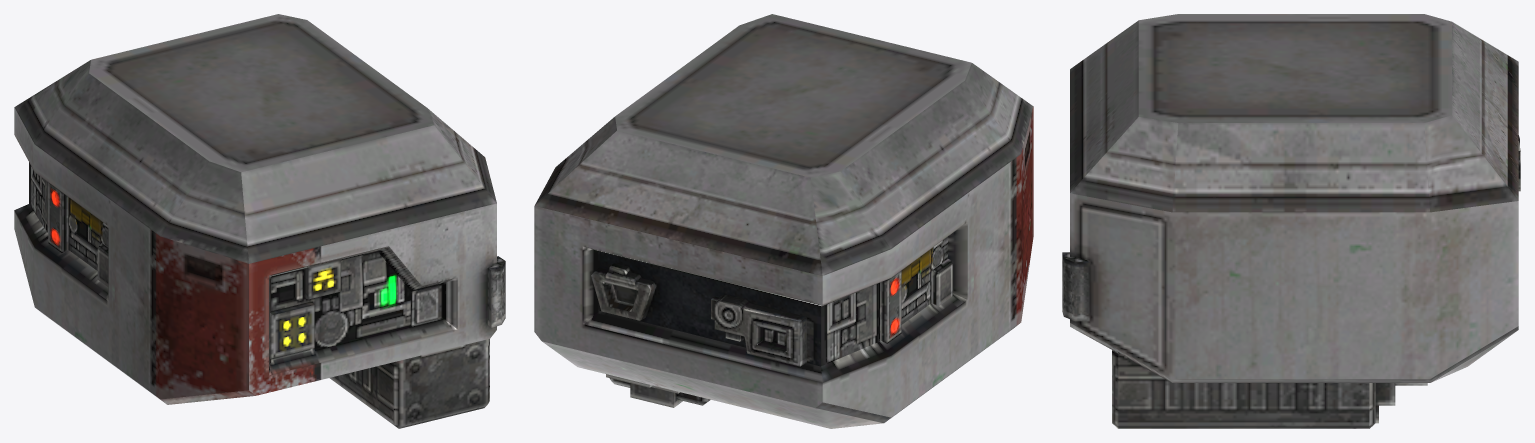
The model's file is computer_ark_room_03.DAE.
3 views of the same model, side by side, from view 1: azimuth 30°, elevation 25°; view 2: azimuth 150°, elevation 25°; view 3: azimuth 270°, elevation 25° (orthographic). The views are drawn at different scales.
Visible parts, largest first — view 1: computer_ark_room_03; view 2: computer_ark_room_03; view 3: computer_ark_room_03.
Part boxes in pixels (x1,y1,x2,y2): computer_ark_room_03: (14, 14, 505, 428); computer_ark_room_03: (534, 14, 1033, 428); computer_ark_room_03: (1062, 14, 1520, 428).
Bounding box in the file's own units: 29.54 × 35.29 × 25.19.
